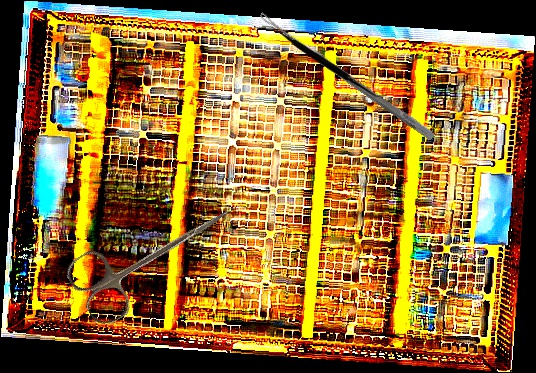Iris Scissors: (61, 177, 246, 331)
Spatula Surgical: (262, 23, 387, 98)
Surgical Spoon: (257, 11, 436, 141)
